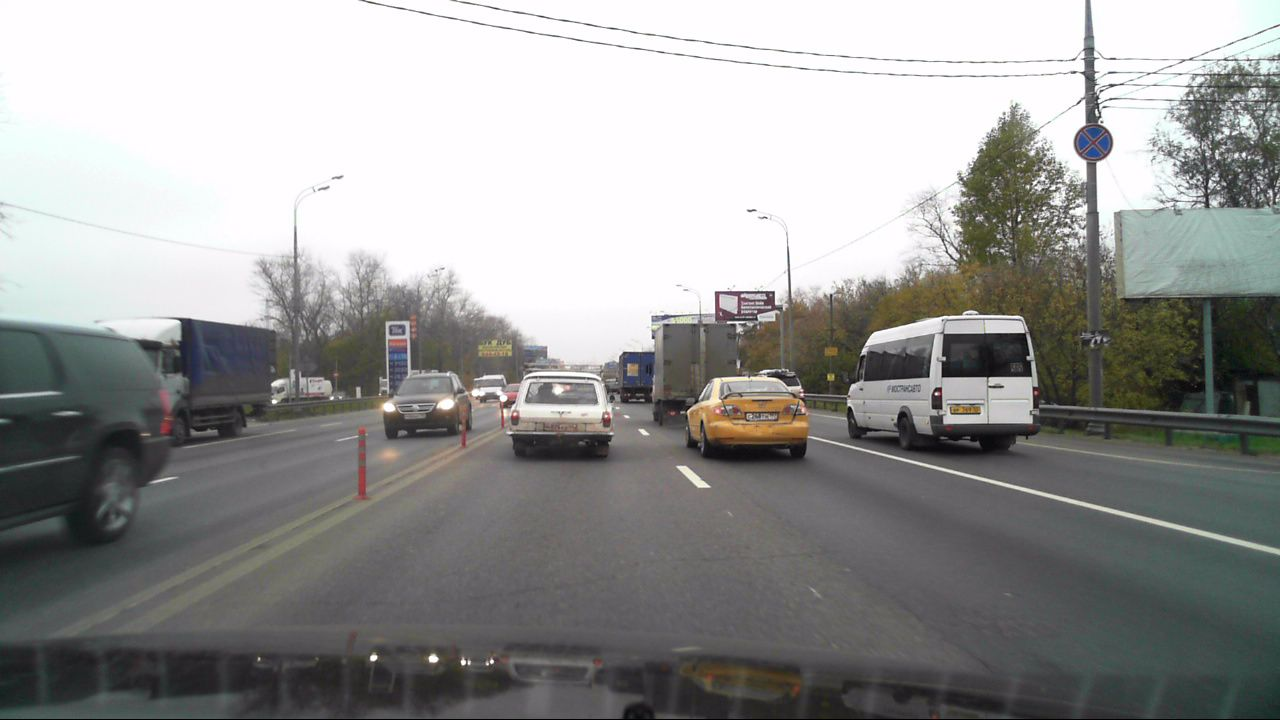No Parking: (1074, 123, 1115, 162)
